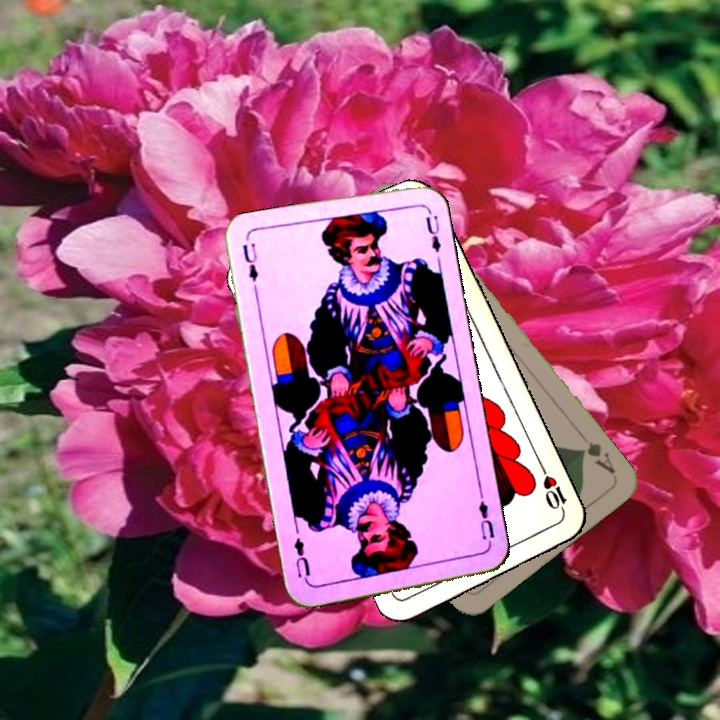EU: (474, 490, 498, 549), (238, 239, 261, 284)
GA: (575, 429, 619, 477)
H10: (536, 462, 570, 518)
